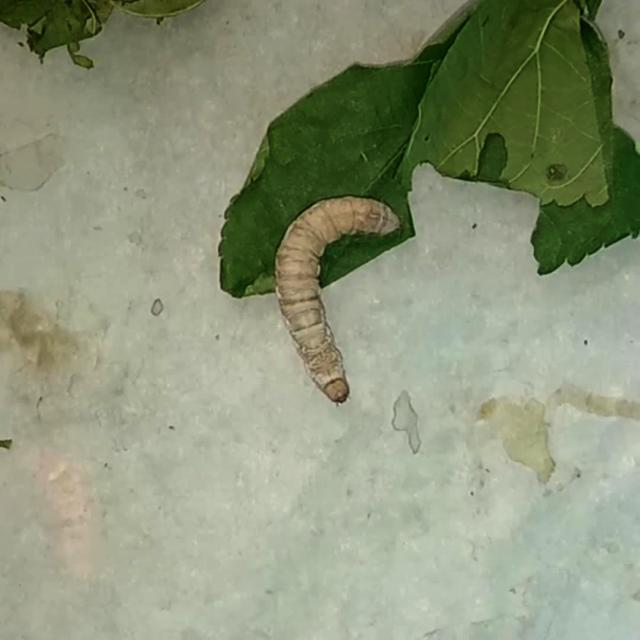Grasserie: (255, 163, 420, 429)
